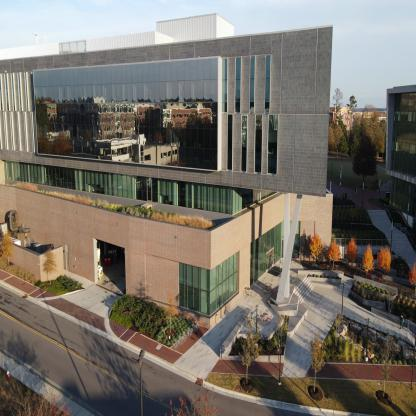Fitts- Woolard: (1, 14, 365, 328)
Hunt Library: (376, 70, 415, 287)
